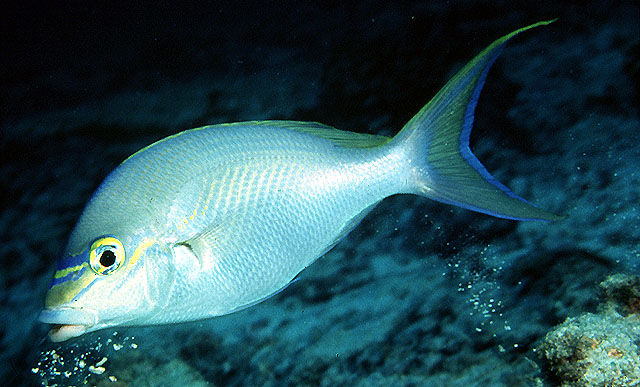fish: (37, 18, 560, 343)
